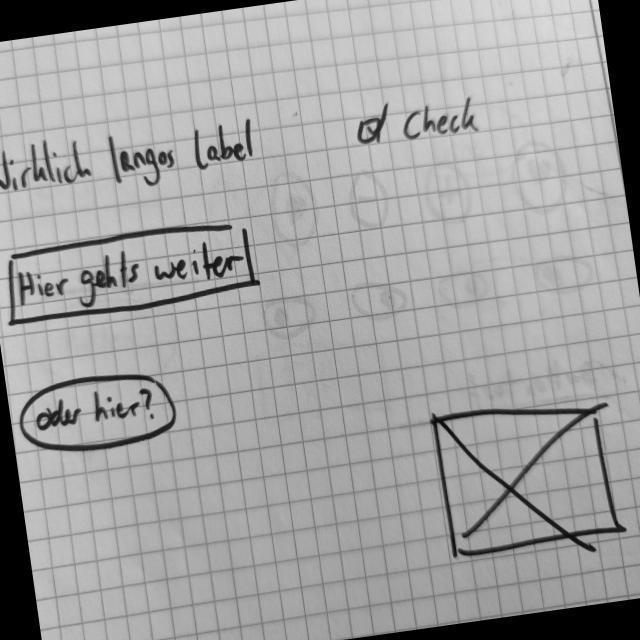button: (1, 213, 266, 332), (14, 364, 184, 464)
checkbox: (354, 88, 483, 153)
image: (428, 386, 632, 568)
label: (1, 108, 262, 212)
